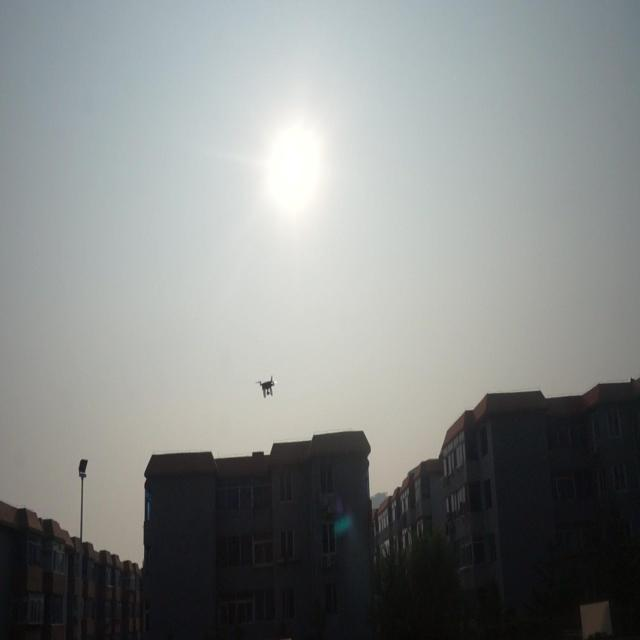drone: (254, 370, 281, 404)
